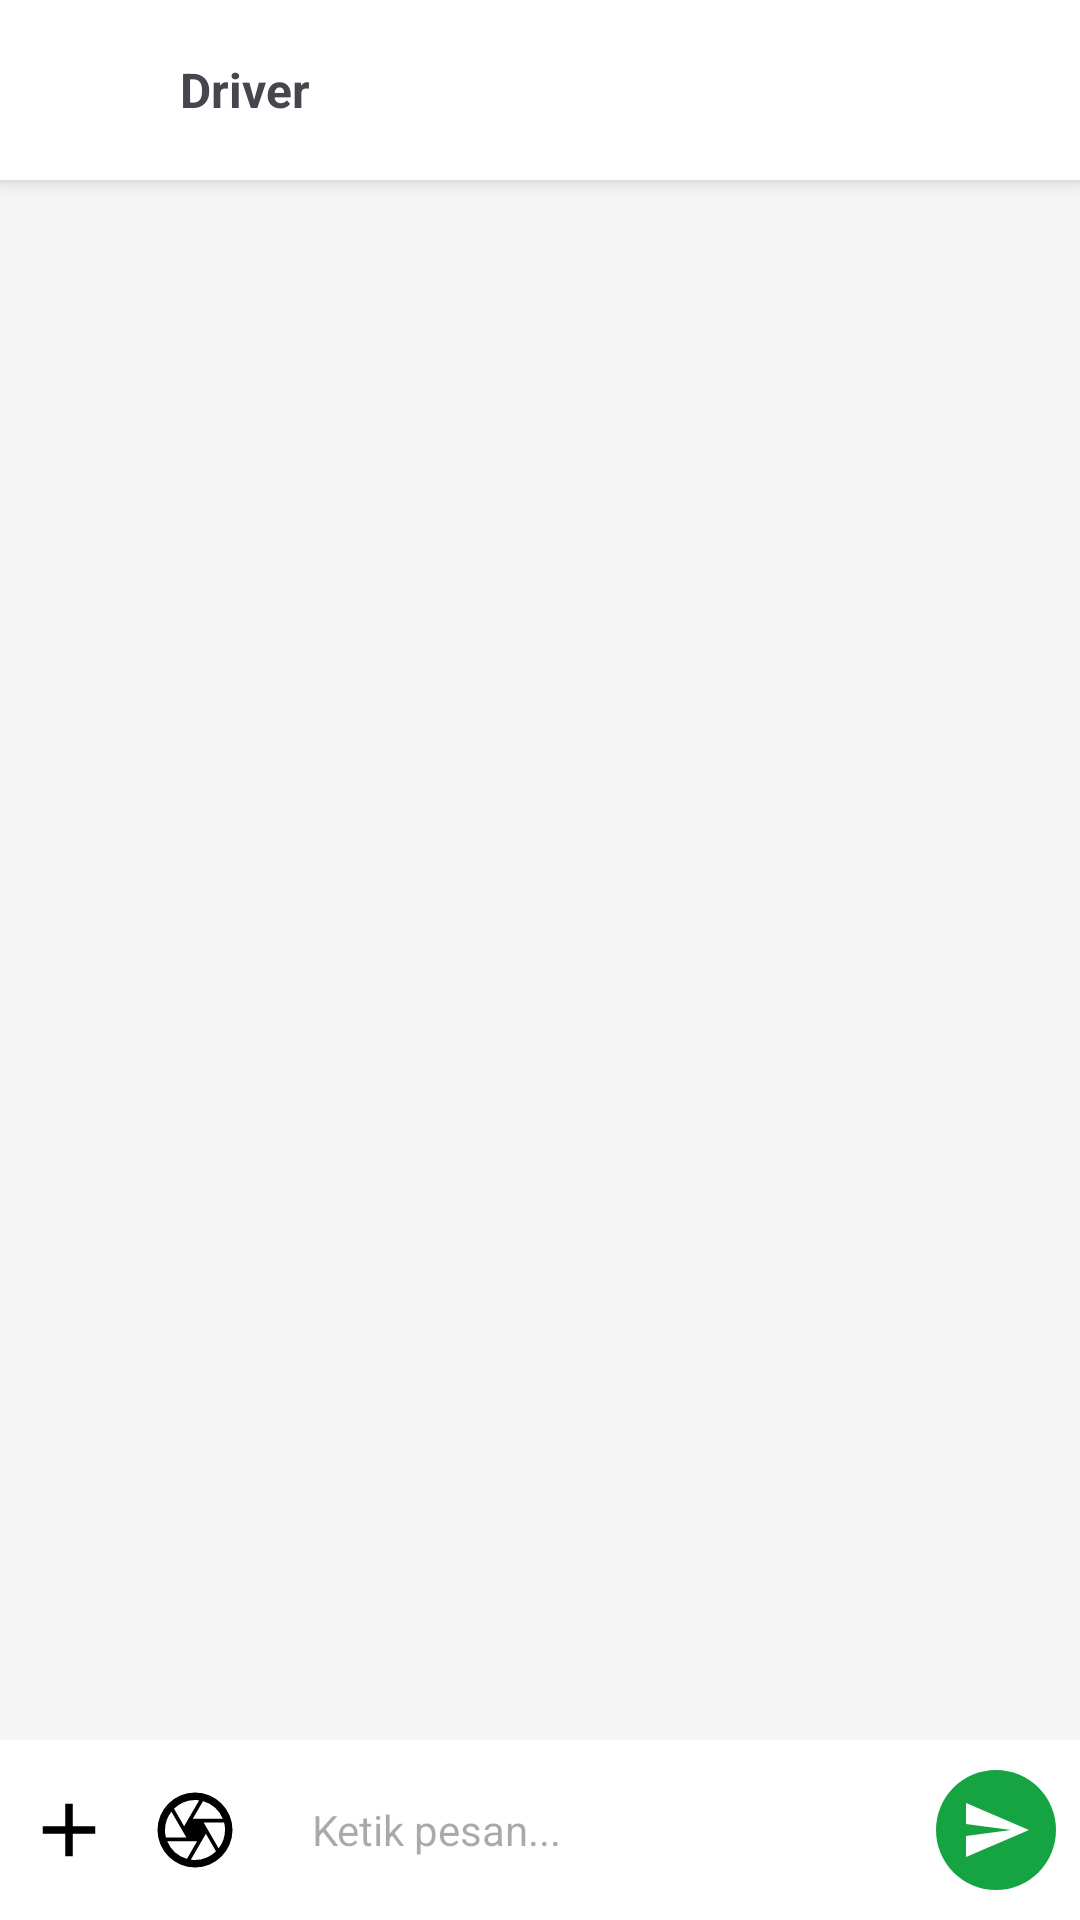

Named icons in this screenshot (1080px x 1920px) and their centers, [x,y]:
add: [69,1830]
camera: [195,1830]
send: [996,1830]
